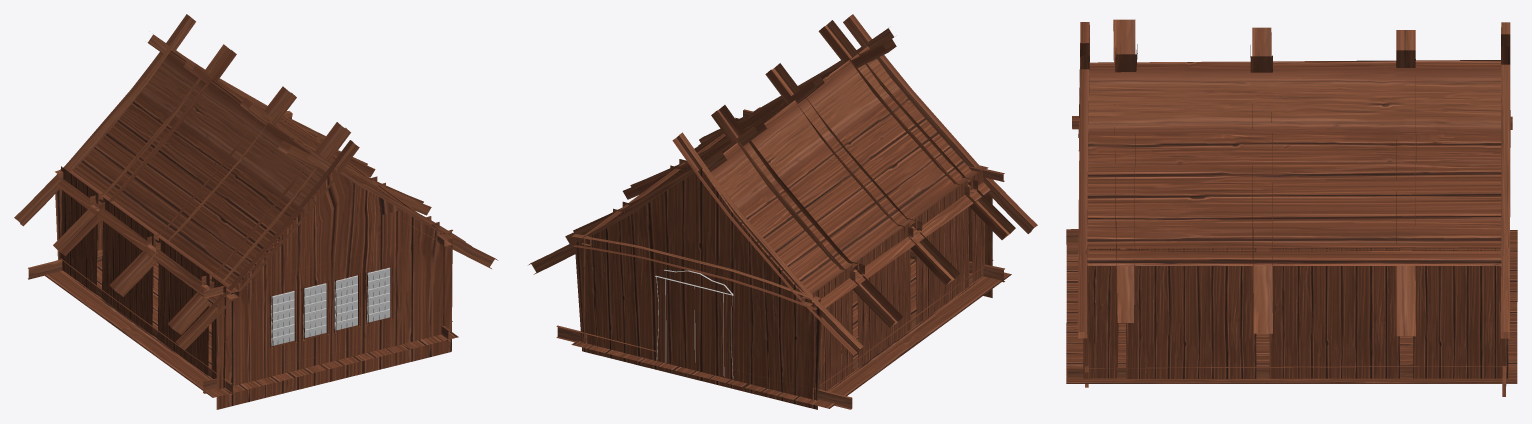
The model's file is HouseLobbyV4.FBX.
3 views of the same model, side by side, from view 1: azimuth 30°, elevation 25°; view 2: azimuth 150°, elevation 25°; view 3: azimuth 270°, elevation 25° (orthographic). The views are drawn at different scales.
Visible parts, largest first — view 1: House_Lobby, Lobby_Window_Cube1_extract2_auv_3, Lobby_Window_Cube1_extract2_auv, Lobby_Window_Cube1_extract2_auv_1, Lobby_Window_Cube1_extract2_auv_2; view 2: House_Lobby; view 3: House_Lobby.
Part boxes in pixels (x1=…): House_Lobby: x1=14, y1=14, x2=498, y2=409; Lobby_Window_Cube1_extract2_auv_3: x1=271, y1=291, x2=294, y2=346; Lobby_Window_Cube1_extract2_auv: x1=334, y1=275, x2=357, y2=330; Lobby_Window_Cube1_extract2_auv_1: x1=367, y1=267, x2=390, y2=322; Lobby_Window_Cube1_extract2_auv_2: x1=303, y1=283, x2=326, y2=337; House_Lobby: x1=528, y1=14, x2=1037, y2=409; House_Lobby: x1=1066, y1=19, x2=1517, y2=396.
Bounding box in the file's own units: 3174 × 2998 × 2298.
